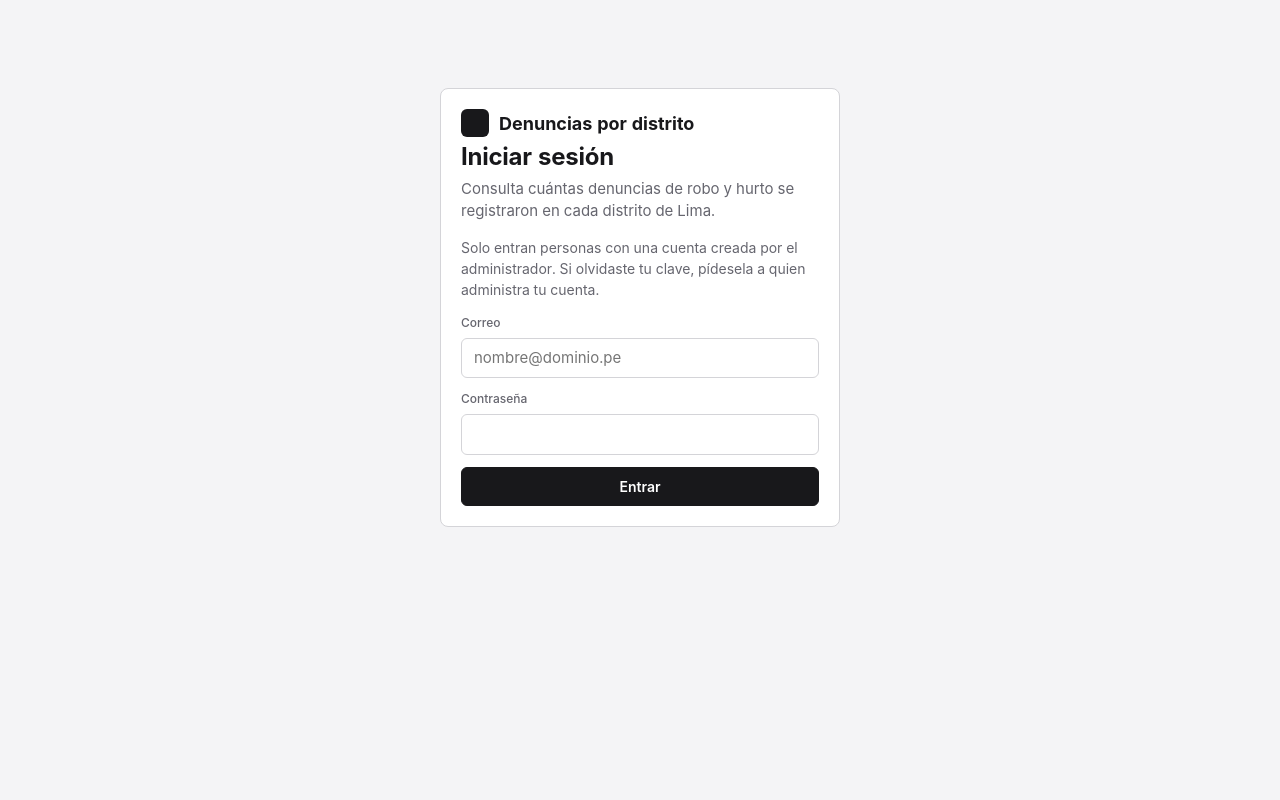
Scenario: gráfico accesible › el mes se lee en una frase, se recorre con las flechas y hay una tabla con los mismos números
The image size is (1280, 800).
Step 1. Type "alguien@prueba.pe" into the field labelled "Correo" → (640, 358), box [461, 338, 819, 378]
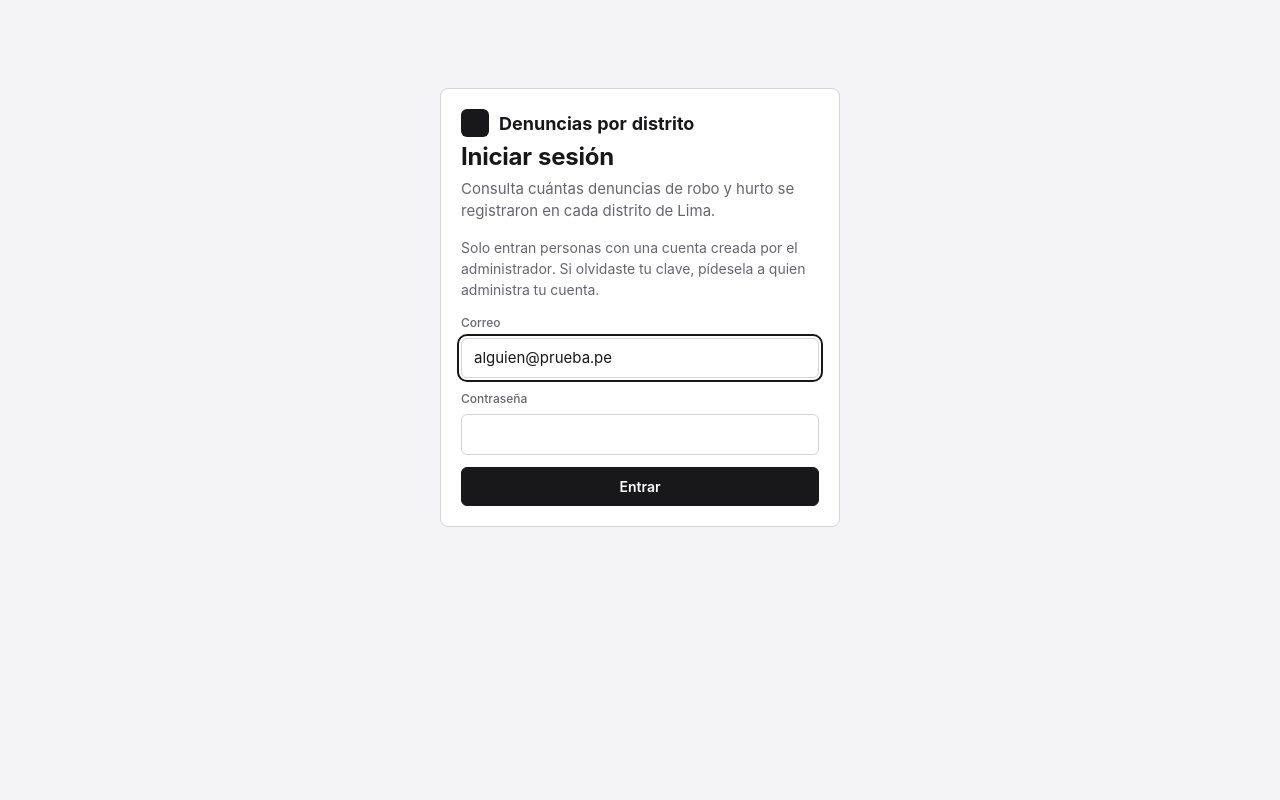
Step 2. Type "clave-segura-123" into the password field labelled "Contraseña" → (640, 435), box [461, 414, 819, 455]
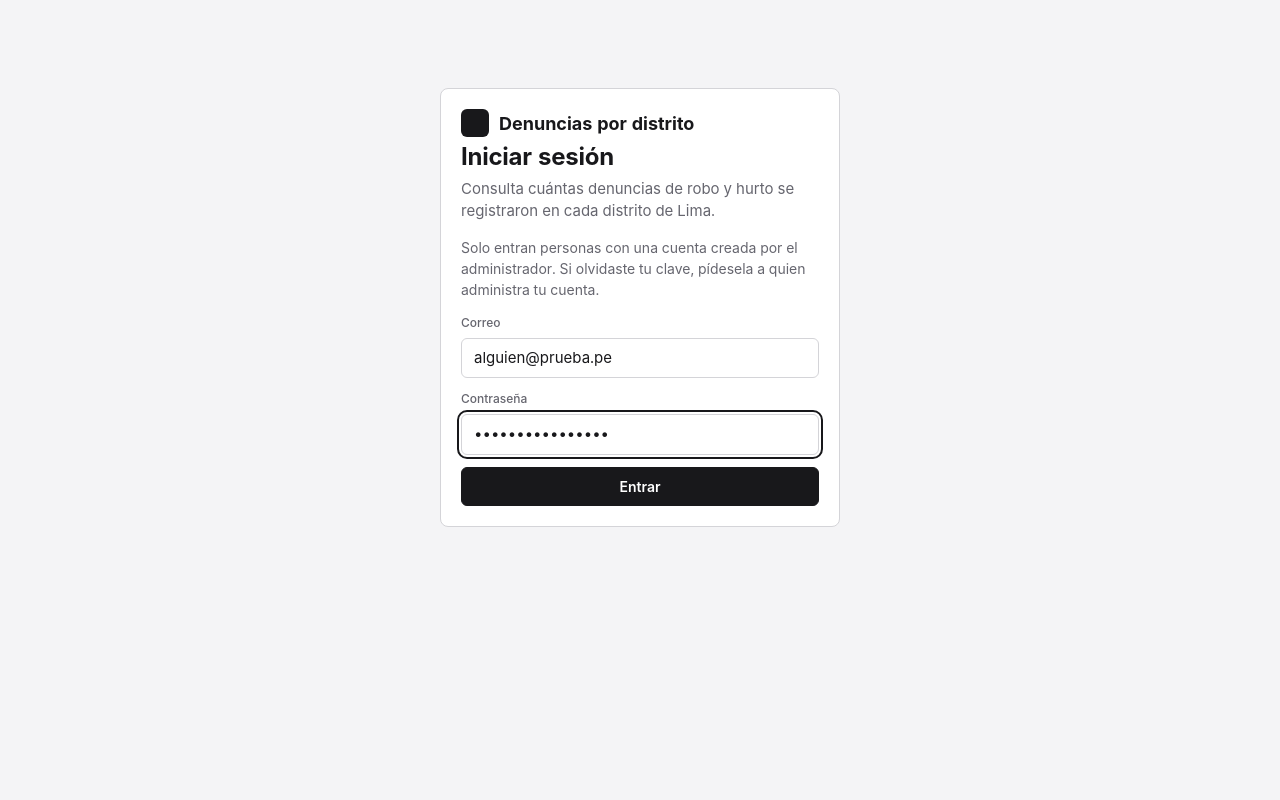
Step 3. Click the button "Entrar" → (640, 486), box [461, 467, 819, 506]
(page scrolled)
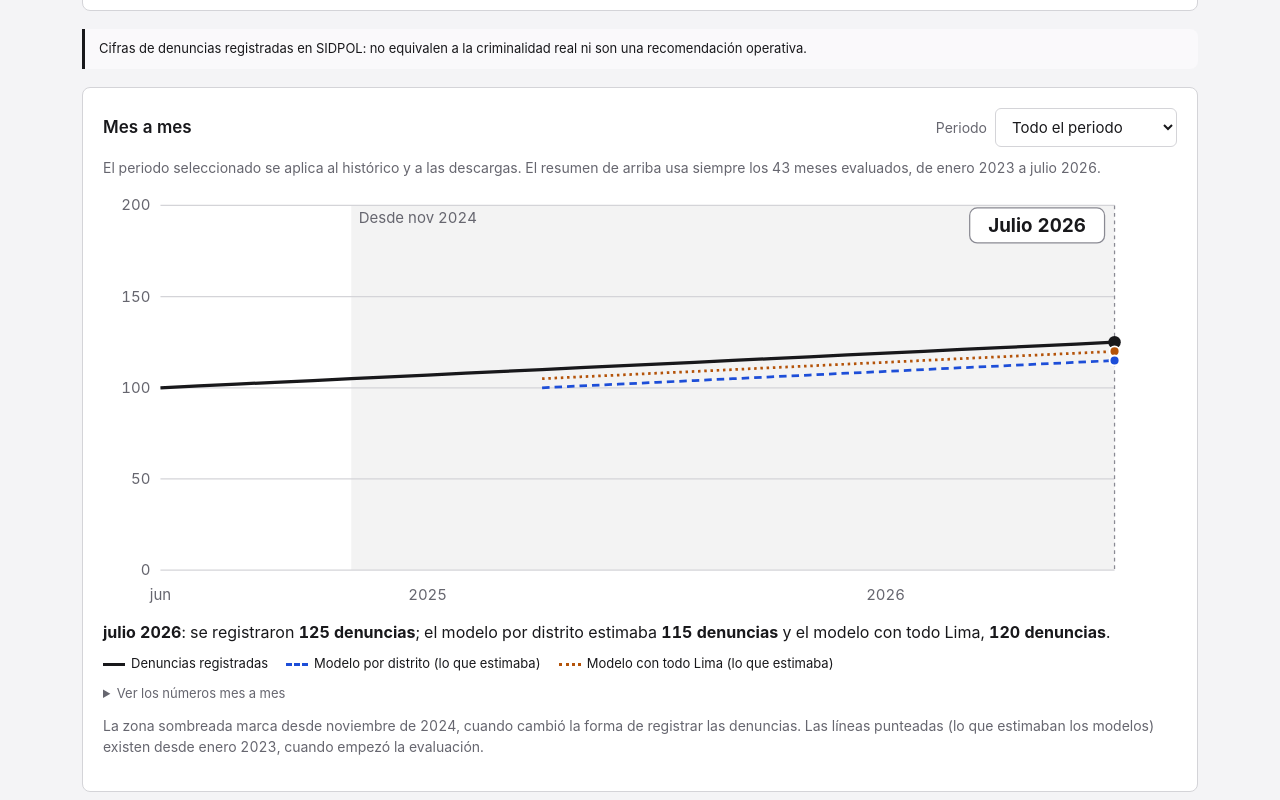
Step 4. Press Home in the picture named "Usa las flechas", box [103, 188, 1177, 612]
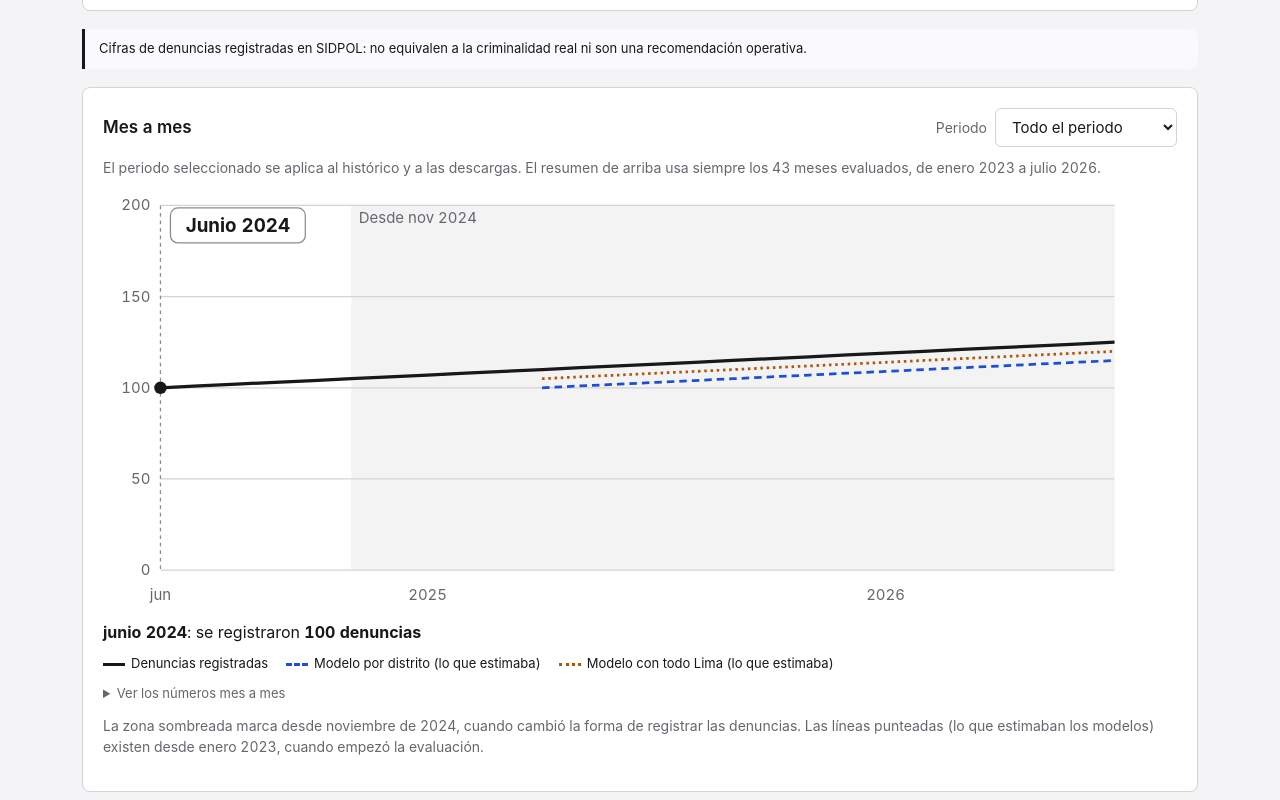
Expected: the heading "Ver los números mes a mes" is shown, [117, 685, 286, 701]
Expected: the text "junio 2024: se registraron 100 denuncias" is shown, [103, 622, 421, 642]
